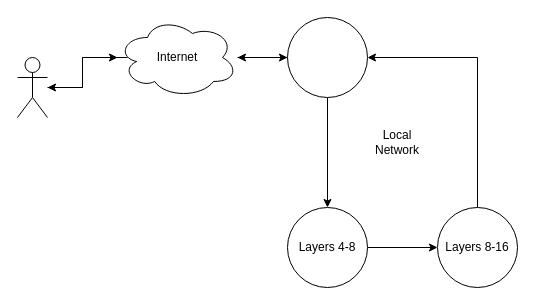
This 535x305 diagram has some shape labels left out. Each missing label, with the centre of its shape:
Layers 0-3: [327,57]
User: [32,87]
